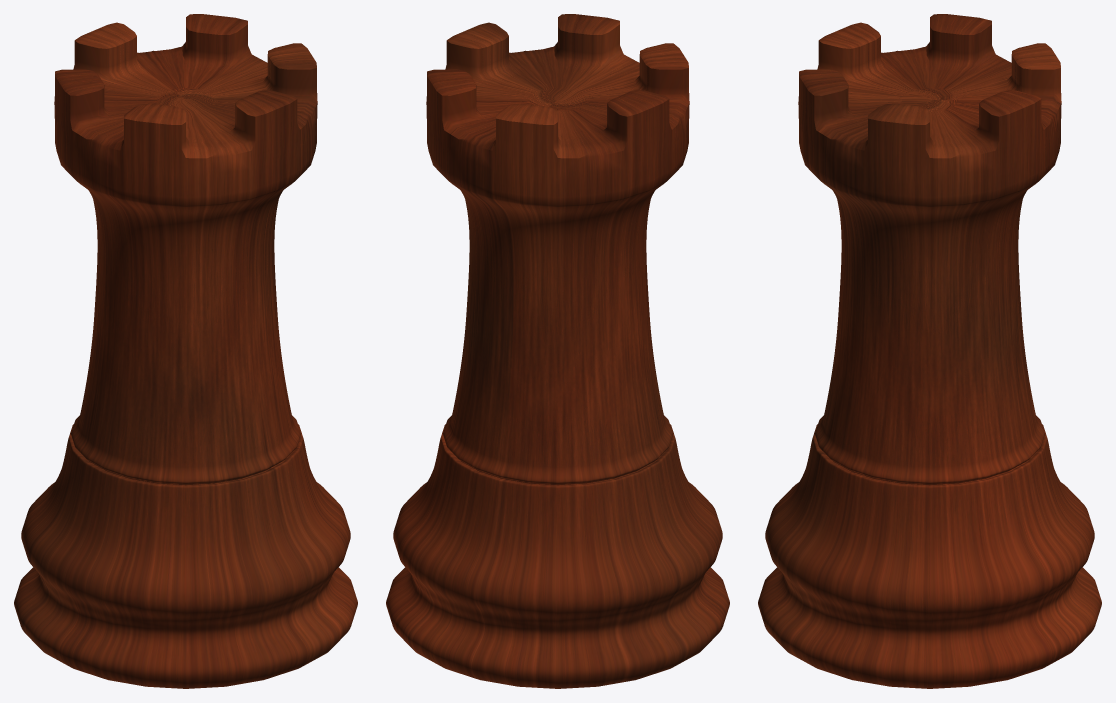
File: rook.gltf
3 views of the same model, side by side, from view 1: azimuth 30°, elevation 25°; view 2: azimuth 150°, elevation 25°; view 3: azimuth 270°, elevation 25° (orthographic).
Parts seen in each view (by area): view 1: mesh01; view 2: mesh01; view 3: mesh01.
Boxes of the visible parts, left/top/right/bottom form: mesh01: left=14, top=14, right=357, bottom=688; mesh01: left=386, top=14, right=729, bottom=688; mesh01: left=758, top=14, right=1101, bottom=688.
Size of the model in its own units: 13.12 by 23.88 by 13.12.
1 material, 1 textured.
